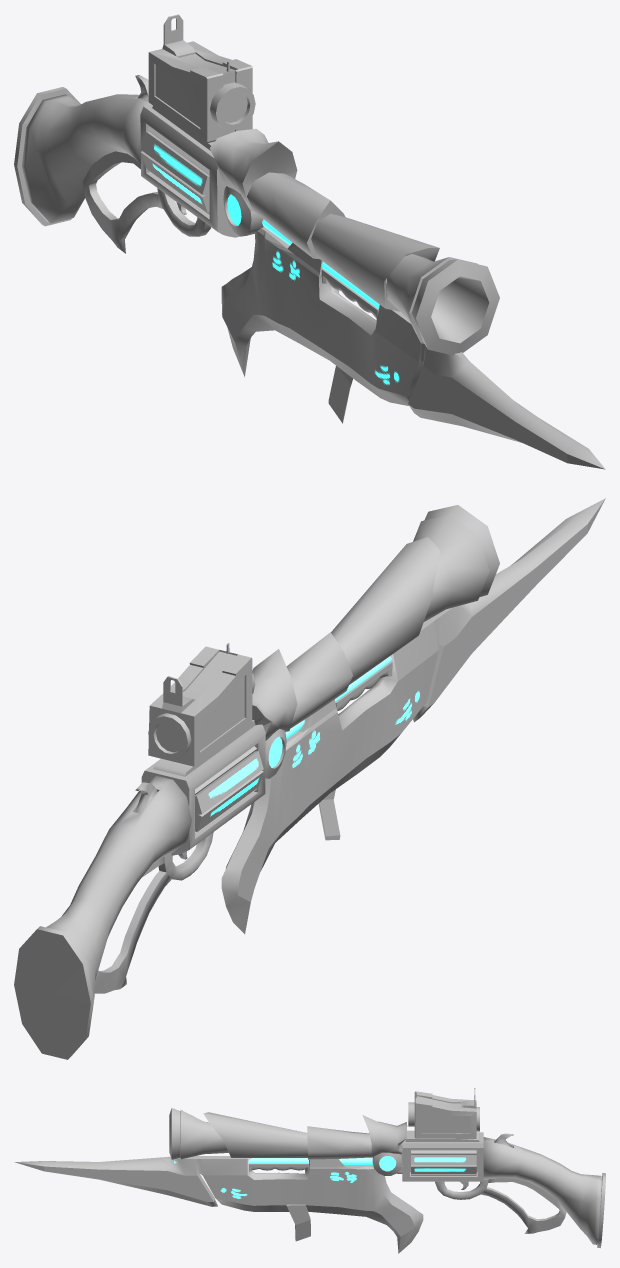
3 views of the same model, one above another, from view 1: azimuth 30°, elevation 25°; view 2: azimuth 150°, elevation 25°; view 3: azimuth 270°, elevation 25° (orthographic). The views are drawn at different scales.
Parts seen in each view (by area): view 1: gun; view 2: gun; view 3: gun.
Part boxes in pixels (x1,y1,x2,y2): gun: [14, 14, 605, 469]; gun: [14, 498, 605, 1059]; gun: [14, 1088, 605, 1253].
Size of the model in its own units: 17.53 by 61.48 by 200.
